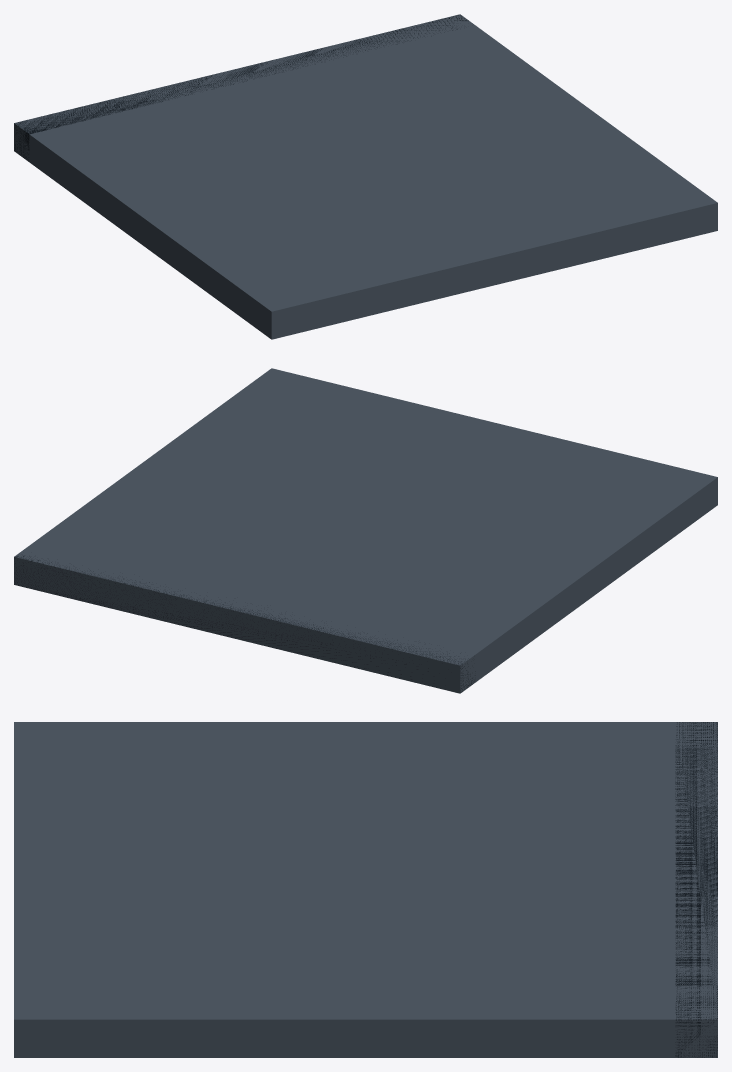
Rendered from np_kms_03_sol_bord.glb.
3 renders of one model, top to bottom at view 1: azimuth 30°, elevation 25°; view 2: azimuth 150°, elevation 25°; view 3: azimuth 270°, elevation 25°, orthographic. The views are drawn at different scales.
Parts seen in each view (by area): view 1: Dalle, Bordure; view 2: Dalle, Bordure; view 3: Dalle, Bordure.
Boxes of the visible parts, box(x1,y1,x2,y2) form: Dalle: box(14, 14, 717, 339); Bordure: box(14, 14, 468, 161); Dalle: box(14, 368, 717, 693); Bordure: box(14, 555, 475, 692); Dalle: box(14, 722, 717, 1057); Bordure: box(675, 722, 717, 1057).
Bounding box in the file's own units: 2 × 0.12 × 2.
